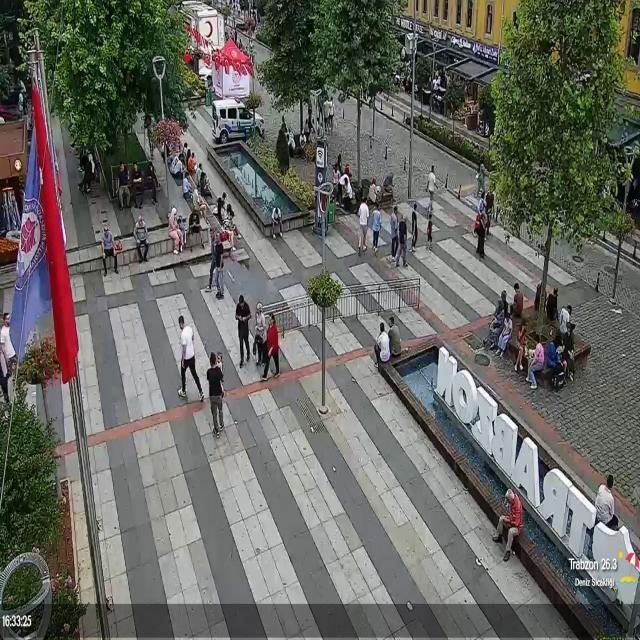Car: (211, 99, 265, 142)
